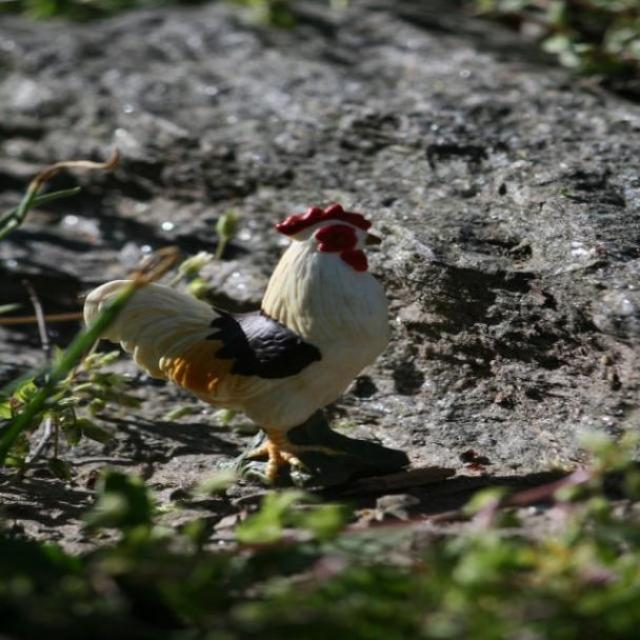Chicken: (89, 206, 397, 480)
